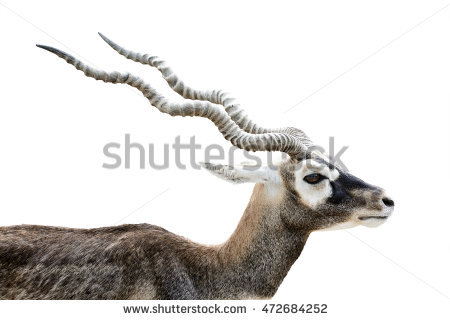Blackbuck: (1, 29, 397, 300)
